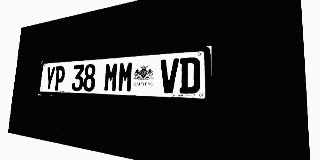3: (71, 64, 84, 91)
8: (82, 64, 96, 91)
D: (179, 57, 200, 94)
M: (117, 61, 134, 92), (103, 62, 119, 92)
P: (53, 66, 65, 91)
V: (159, 58, 179, 93)
Y: (44, 66, 56, 90)
